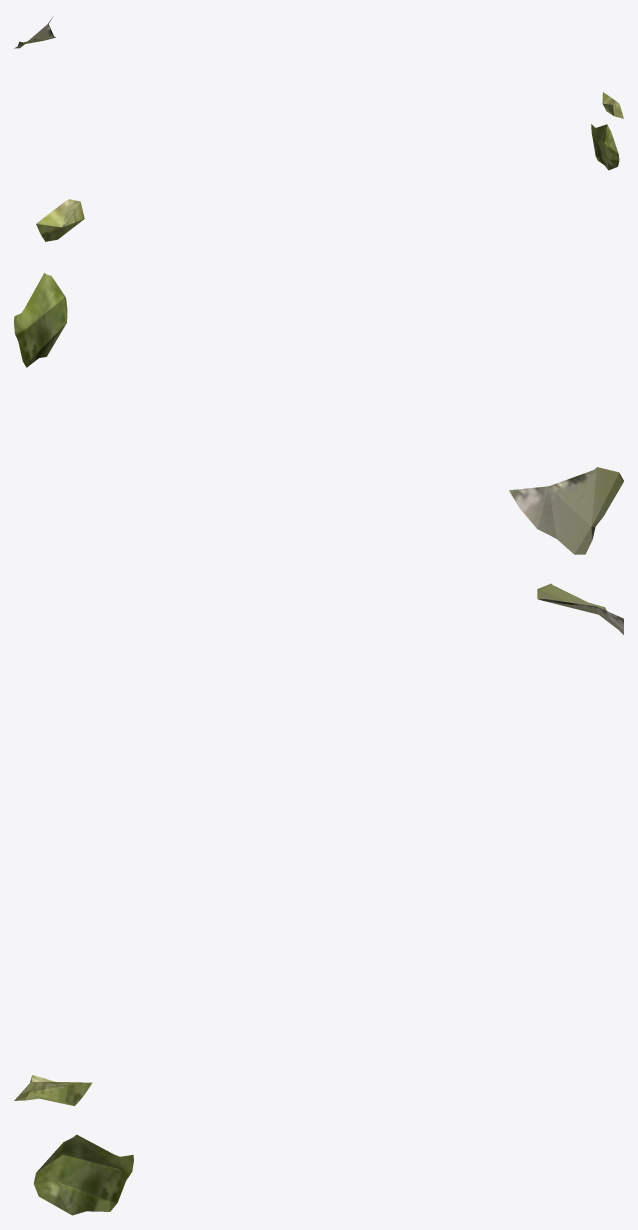
3 views of the same model, one above another, from view 1: azimuth 30°, elevation 25°; view 2: azimuth 150°, elevation 25°; view 3: azimuth 270°, elevation 25° (orthographic). The views are drawn at different scales.
Bounding box in the file's own units: 2.95 × 0.8988 × 1.99.
1 material, 1 textured.
